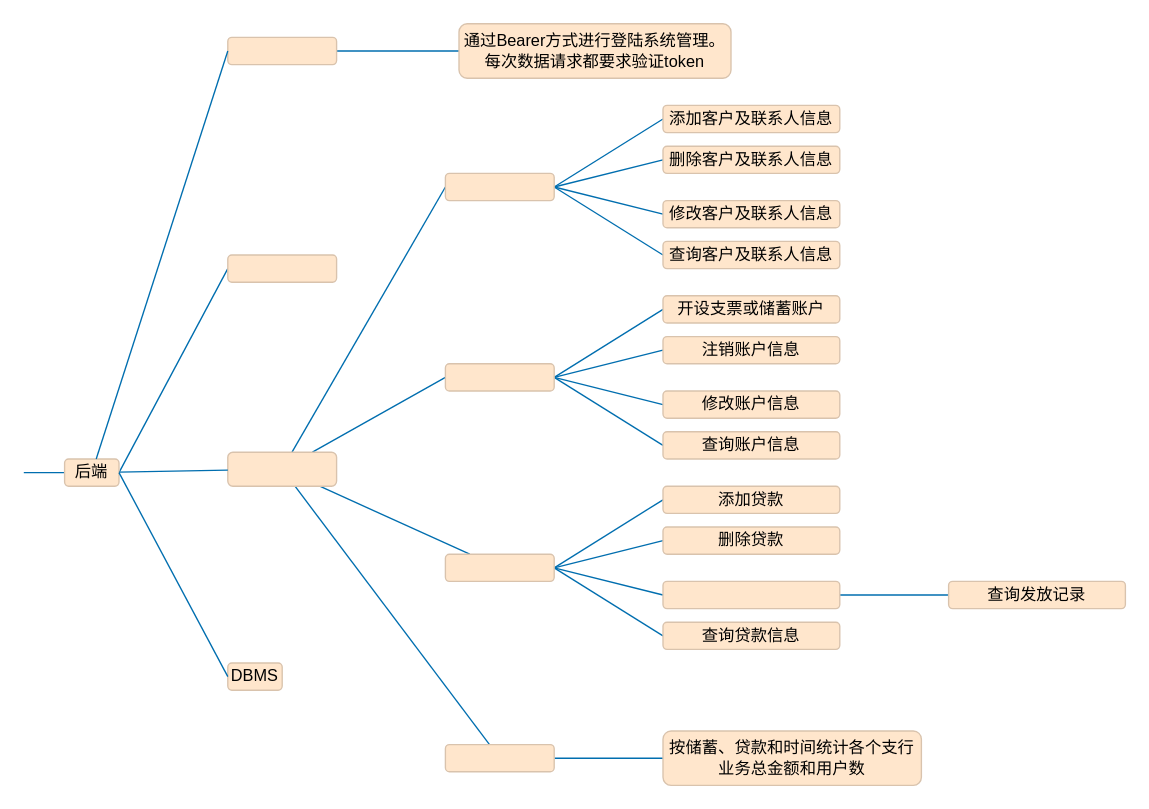
The diagram is 1149 pixels wide and 809 high, and some of its shapes have lost their labels. The box of each missing label's shape, as (x1, y1, x2, y2) in pixels:
Flask路由模块: (226, 254, 337, 282)
业务统计模块: (444, 743, 554, 772)
发放贷款: (662, 580, 840, 609)
客户管理模块: (444, 172, 554, 201)
登陆管理模块: (226, 36, 337, 65)
账户管理模块: (444, 362, 554, 391)
贷款管理模块: (444, 553, 554, 581)
银行管理模块: (226, 451, 337, 486)
